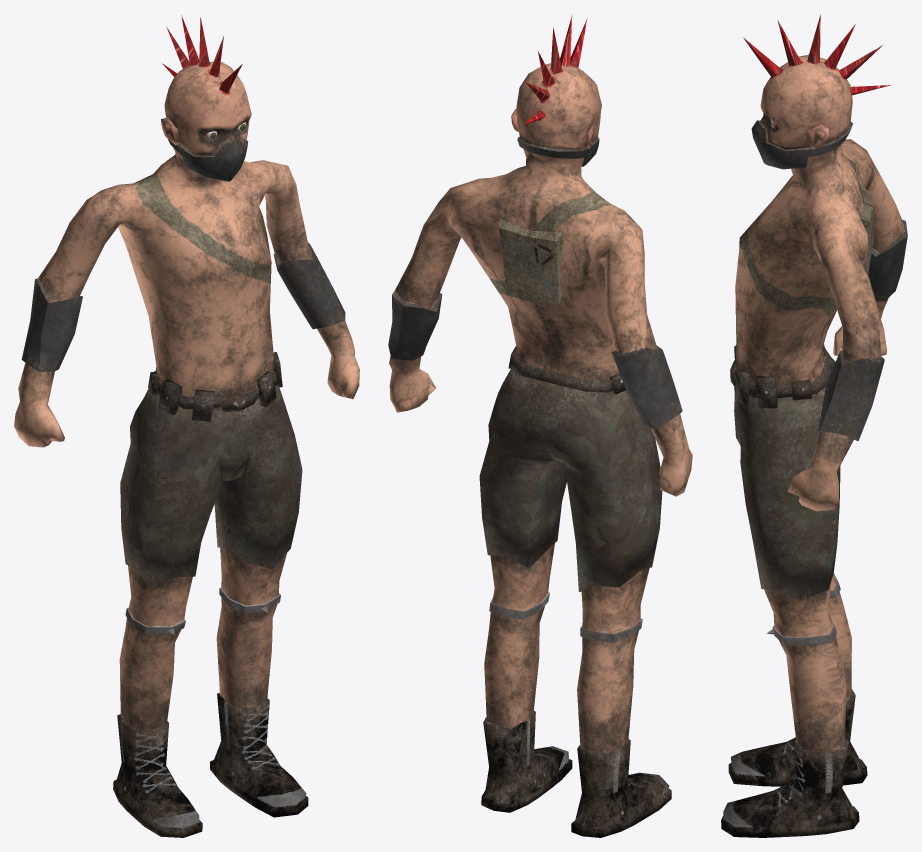
File: Anim_arma_c_npc2.0013.obj
The picture shows the model from 3 angles, left to right: view 1: azimuth 30°, elevation 25°; view 2: azimuth 150°, elevation 25°; view 3: azimuth 270°, elevation 25°; orthographic projection. The views are drawn at different scales.
Visible parts, largest first — view 1: polySurface1; view 2: polySurface1; view 3: polySurface1.
Boxes of the visible parts, x1,y1,x2,y2 form: polySurface1: [14, 15, 359, 837]; polySurface1: [388, 14, 692, 837]; polySurface1: [721, 14, 907, 837].
Size of the model in its own units: 4.28 by 10.16 by 2.17.
